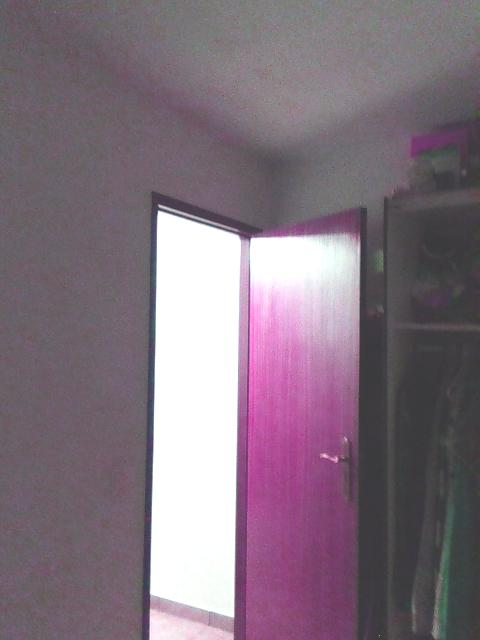open_door: (140, 190, 282, 639)
